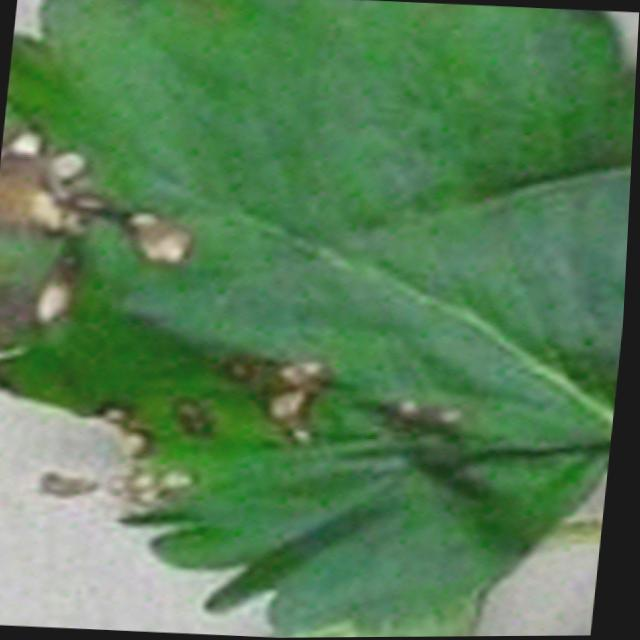Leaf Spot: (0, 0, 637, 638)
